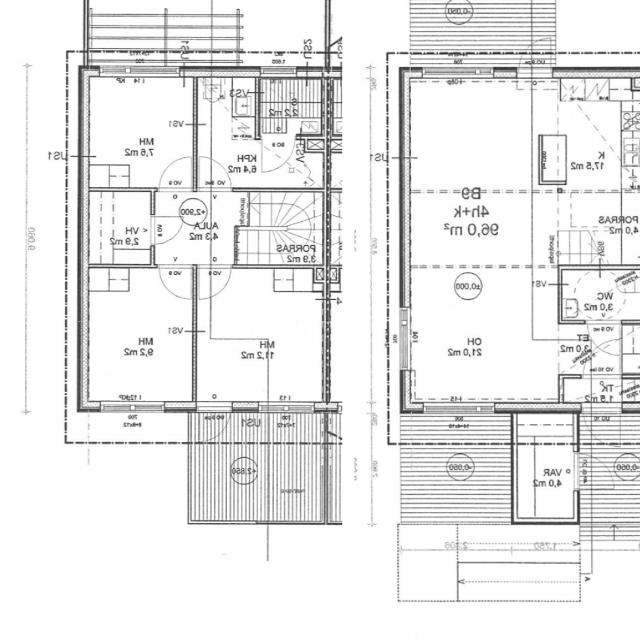door: (583, 402, 621, 450), (574, 453, 617, 489), (584, 338, 620, 378), (199, 401, 231, 443), (520, 36, 551, 78), (262, 135, 296, 171), (199, 264, 231, 300), (160, 264, 192, 300), (588, 320, 620, 355), (199, 157, 231, 192), (160, 157, 192, 192), (151, 217, 183, 244)
